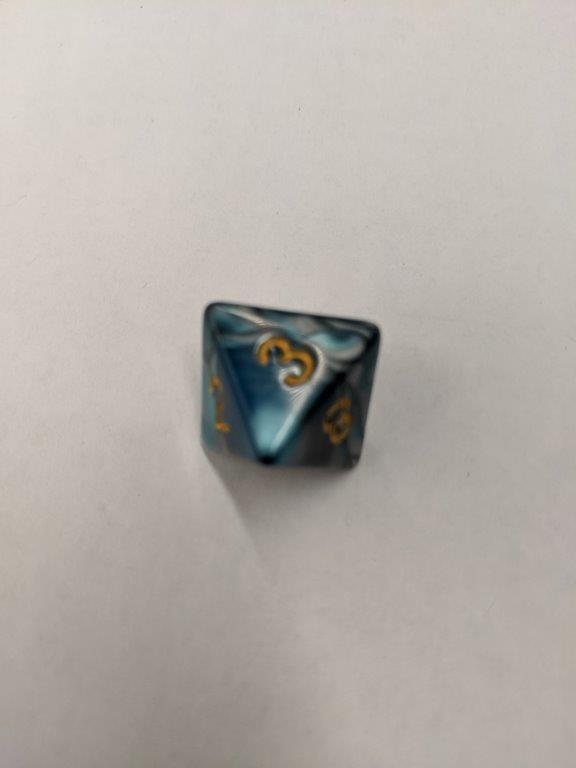d8-3: (199, 301, 385, 474)
